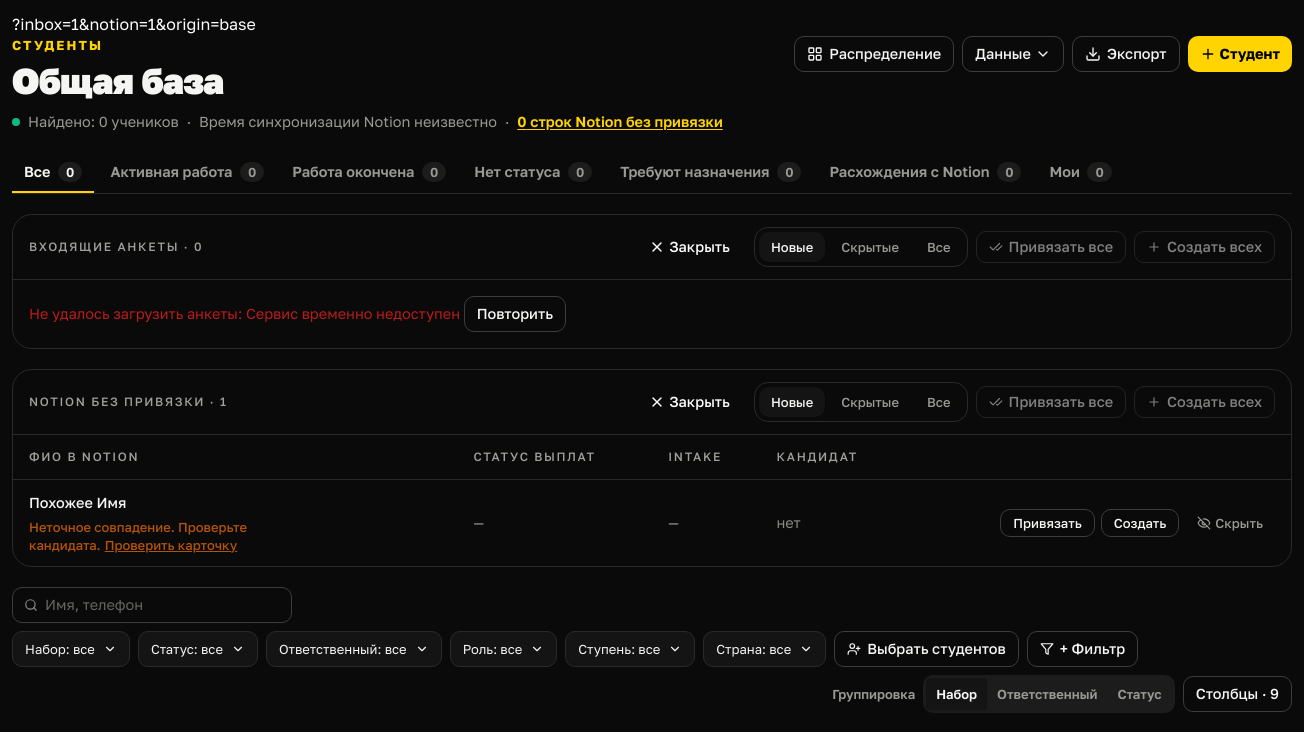
Test: shows an intake loading failure instead of claiming everything was processed
Expected: the message shows "Сервис временно недоступен", [246,305,460,322]
Expected: the text "Все анкеты обработаны" is not shown
Click the button "Повторить" at (515, 314), box [464,296,566,332]
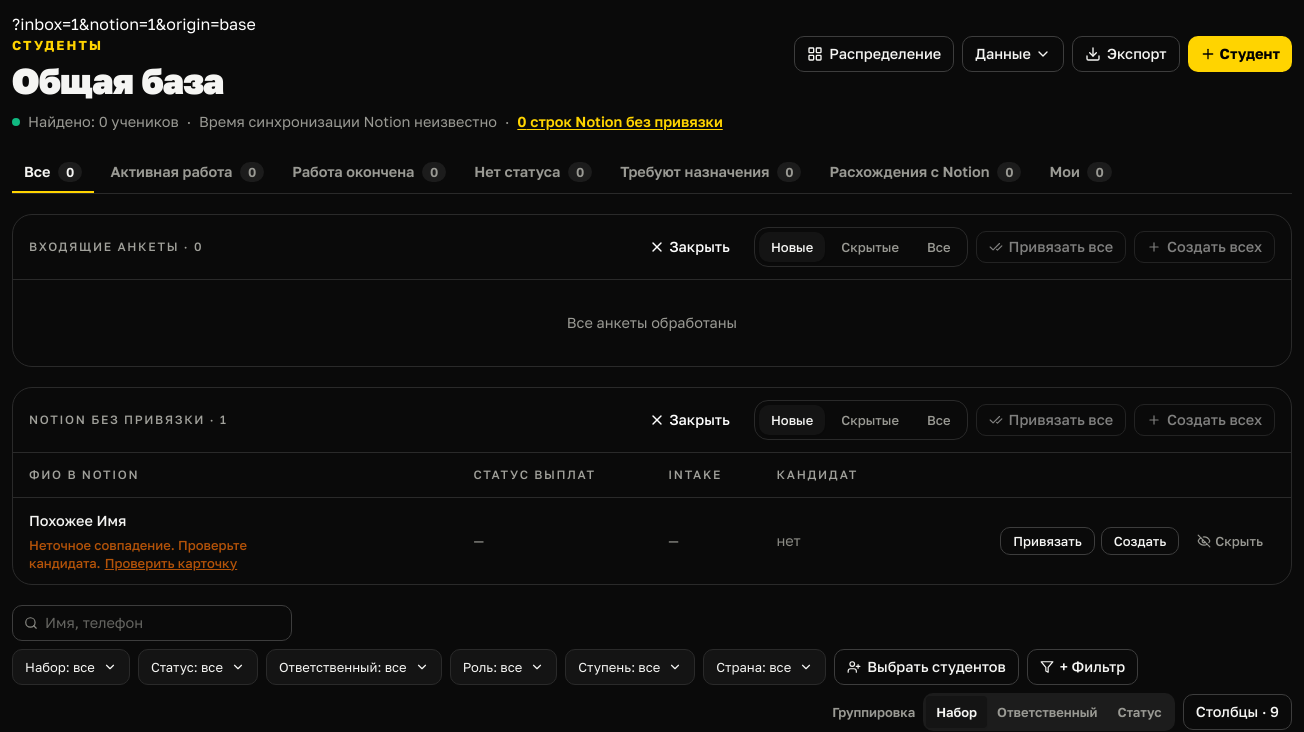
Expected: the text "Все анкеты обработаны" is shown, [567,314,737,331]
